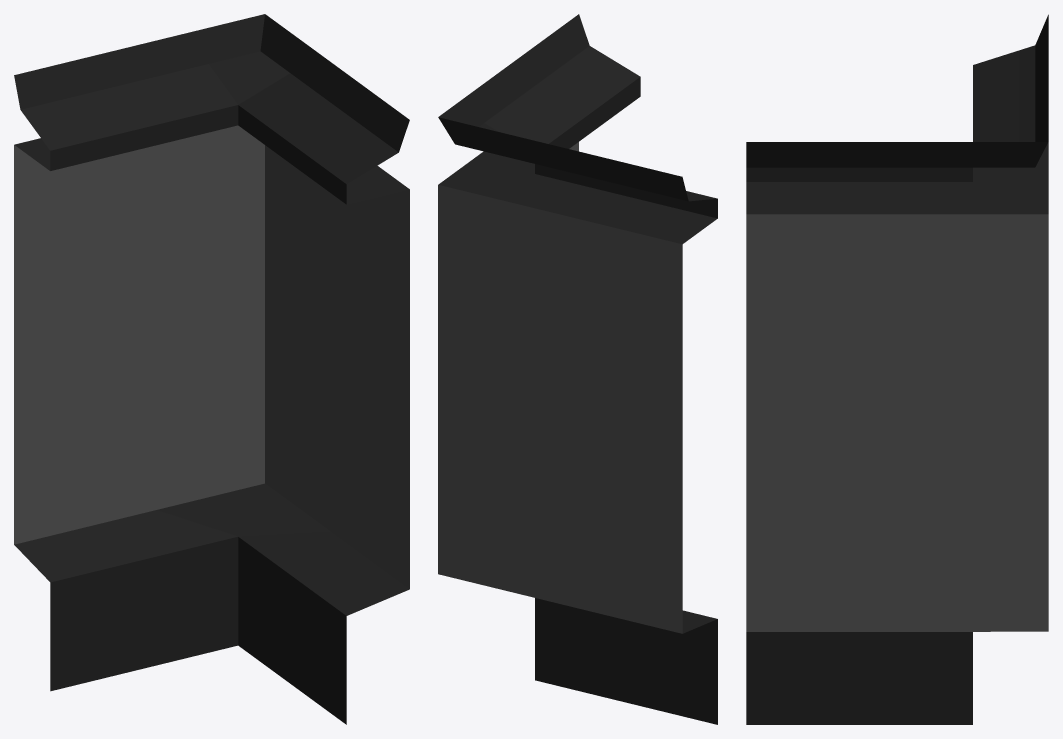
The model's file is corner_wall_outside_plain_C.fbx.
3 views of the same model, side by side, from view 1: azimuth 30°, elevation 25°; view 2: azimuth 150°, elevation 25°; view 3: azimuth 270°, elevation 25° (orthographic). The views are drawn at different scales.
Visible parts, largest first — view 1: corner_wall_outside_plain_C; view 2: corner_wall_outside_plain_C; view 3: corner_wall_outside_plain_C.
Boxes of the visible parts, bbox=[...] form: corner_wall_outside_plain_C: bbox=[14, 14, 409, 724]; corner_wall_outside_plain_C: bbox=[438, 14, 717, 724]; corner_wall_outside_plain_C: bbox=[746, 14, 1048, 724].
Size of the model in its own units: 134 by 300 by 133.
